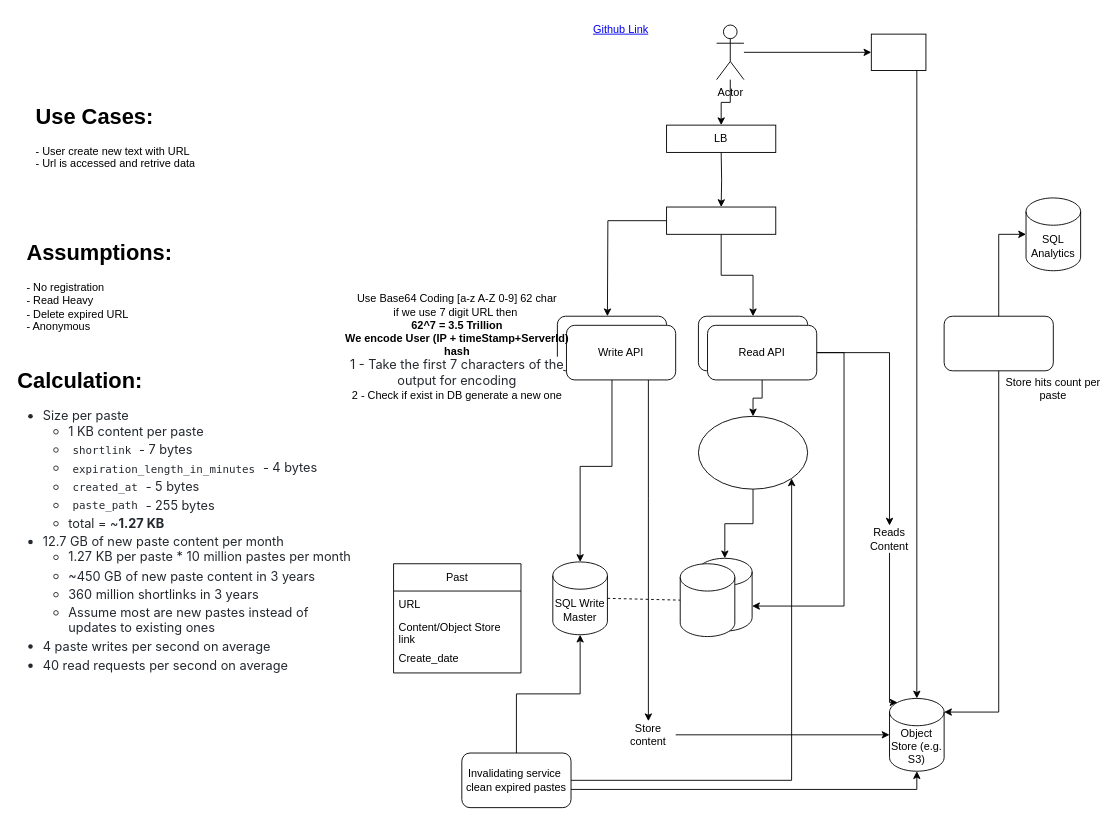
Image size: 1118x824. Some labels were removed from this diagram. Here are the shapes that lost their labels. From the top down, the centre of each, then its label:
At [898,52]: "CDN".
At [721,220]: "Web Server".
At [998,343]: "Analytics".
At [753,452]: "Cache Memory".
At [707,600]: "SQL Read replica".
